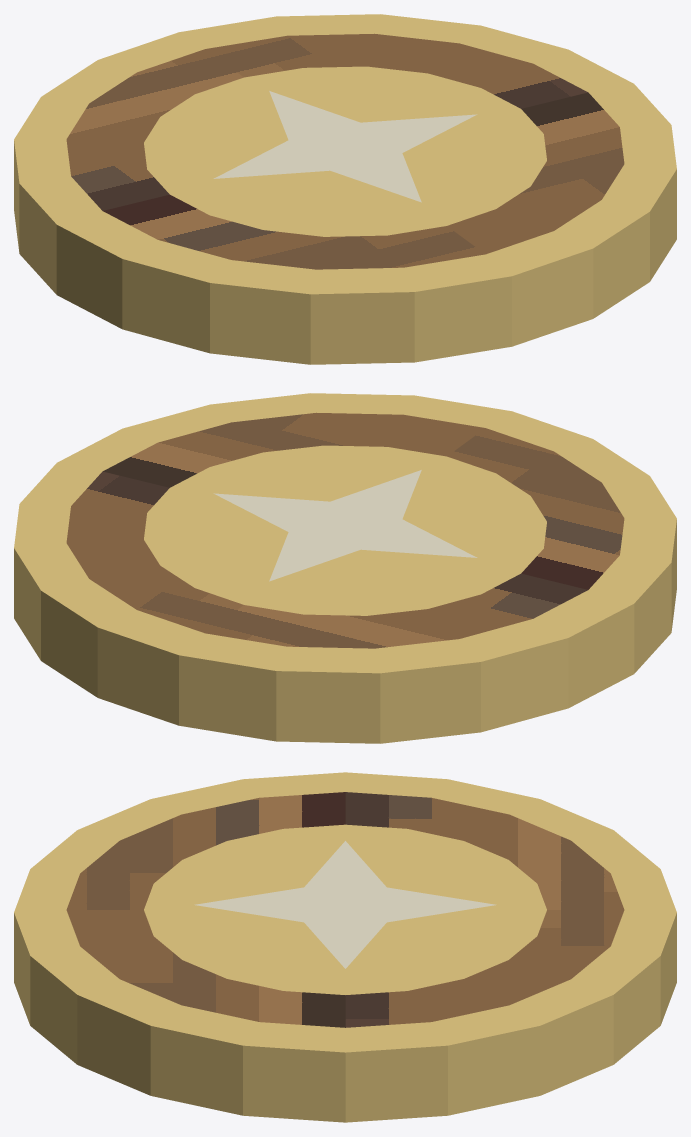
Rendered from moeda_chao.glb.
3 views of the same model, one above another, from view 1: azimuth 30°, elevation 25°; view 2: azimuth 150°, elevation 25°; view 3: azimuth 270°, elevation 25° (orthographic).
Parts seen in each view (by area): view 1: pedreira_moeda_chao; view 2: pedreira_moeda_chao; view 3: pedreira_moeda_chao.
Part boxes in pixels (x1=…): pedreira_moeda_chao: x1=14, y1=14, x2=676, y2=364; pedreira_moeda_chao: x1=14, y1=393, x2=676, y2=743; pedreira_moeda_chao: x1=14, y1=772, x2=676, y2=1122.
Size of the model in its own units: 0.24 by 0.031 by 0.24.
Materials: 3 (1 with a texture image).
